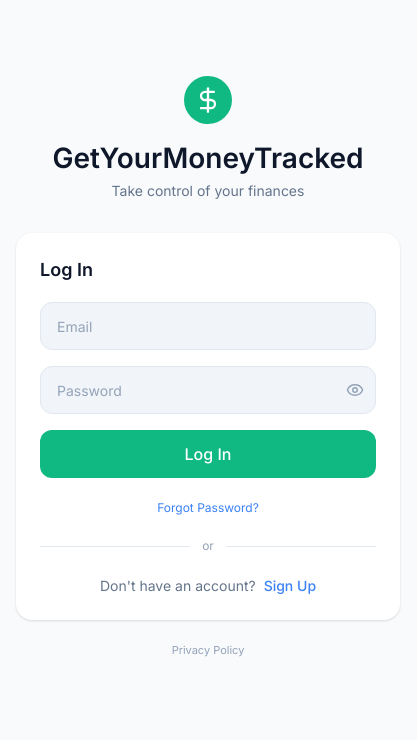
Test: LoginPage › switches to signup view when Sign Up is clicked
Click the button "Sign Up" at x=290, y=586, box [264,575,316,596]
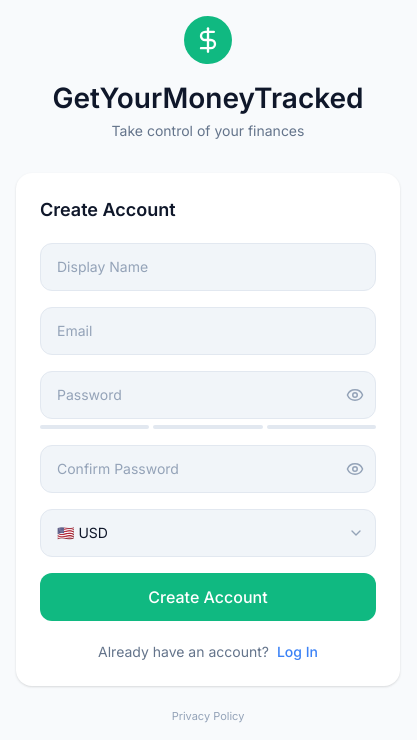
Expected: the text "Create Account" is shown, [40,199,176,220]
